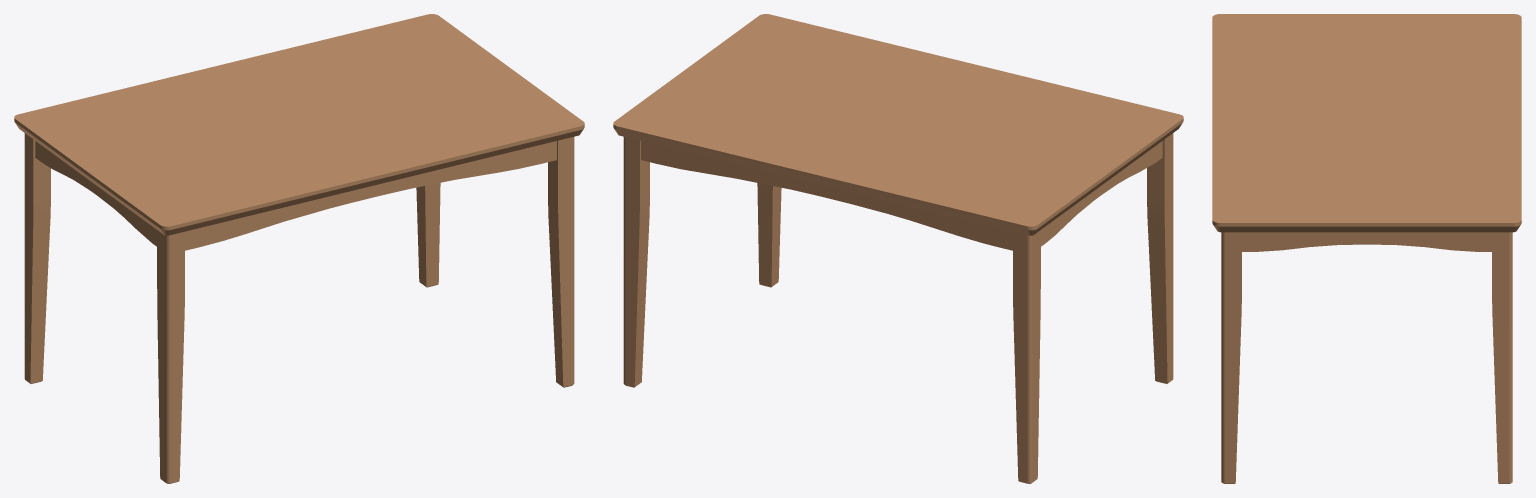
The model's file is 583_ダイニングテーブル4人掛け.glb.
3 renders of one model, left to right at view 1: azimuth 30°, elevation 25°; view 2: azimuth 150°, elevation 25°; view 3: azimuth 270°, elevation 25°, orthographic.
Visible parts, largest first — view 1: Body; view 2: Body; view 3: Body.
Boxes of the visible parts, x1,y1,x2,y2 form: Body: (14, 14, 584, 483); Body: (613, 14, 1183, 483); Body: (1212, 14, 1521, 483).
Bounding box in the file's own units: 1.2 × 0.71 × 0.75.
